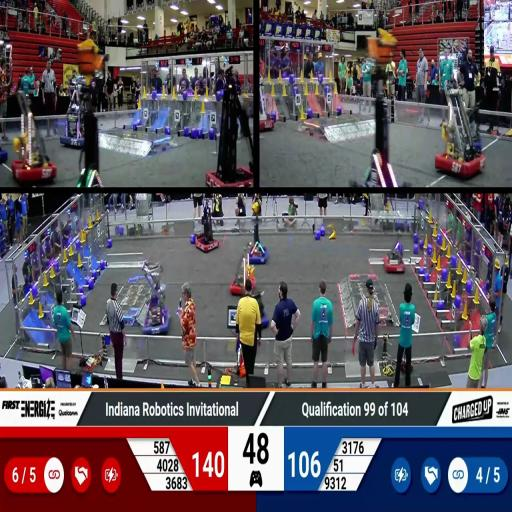robot: (348, 30, 406, 186), (204, 68, 255, 190), (436, 78, 486, 178), (10, 92, 59, 184), (137, 264, 172, 334), (63, 84, 88, 148), (231, 244, 258, 298), (242, 218, 271, 268), (194, 205, 220, 254), (384, 241, 408, 275), (258, 84, 274, 131), (254, 292, 272, 329), (0, 148, 7, 163)
